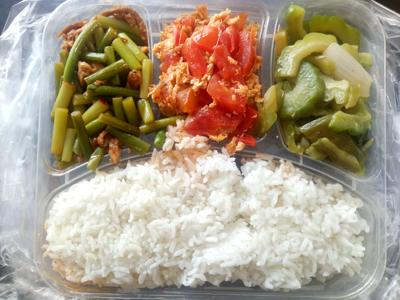jdxhs: (155, 3, 266, 152)
rice: (67, 170, 362, 292)
st: (53, 6, 159, 167)
